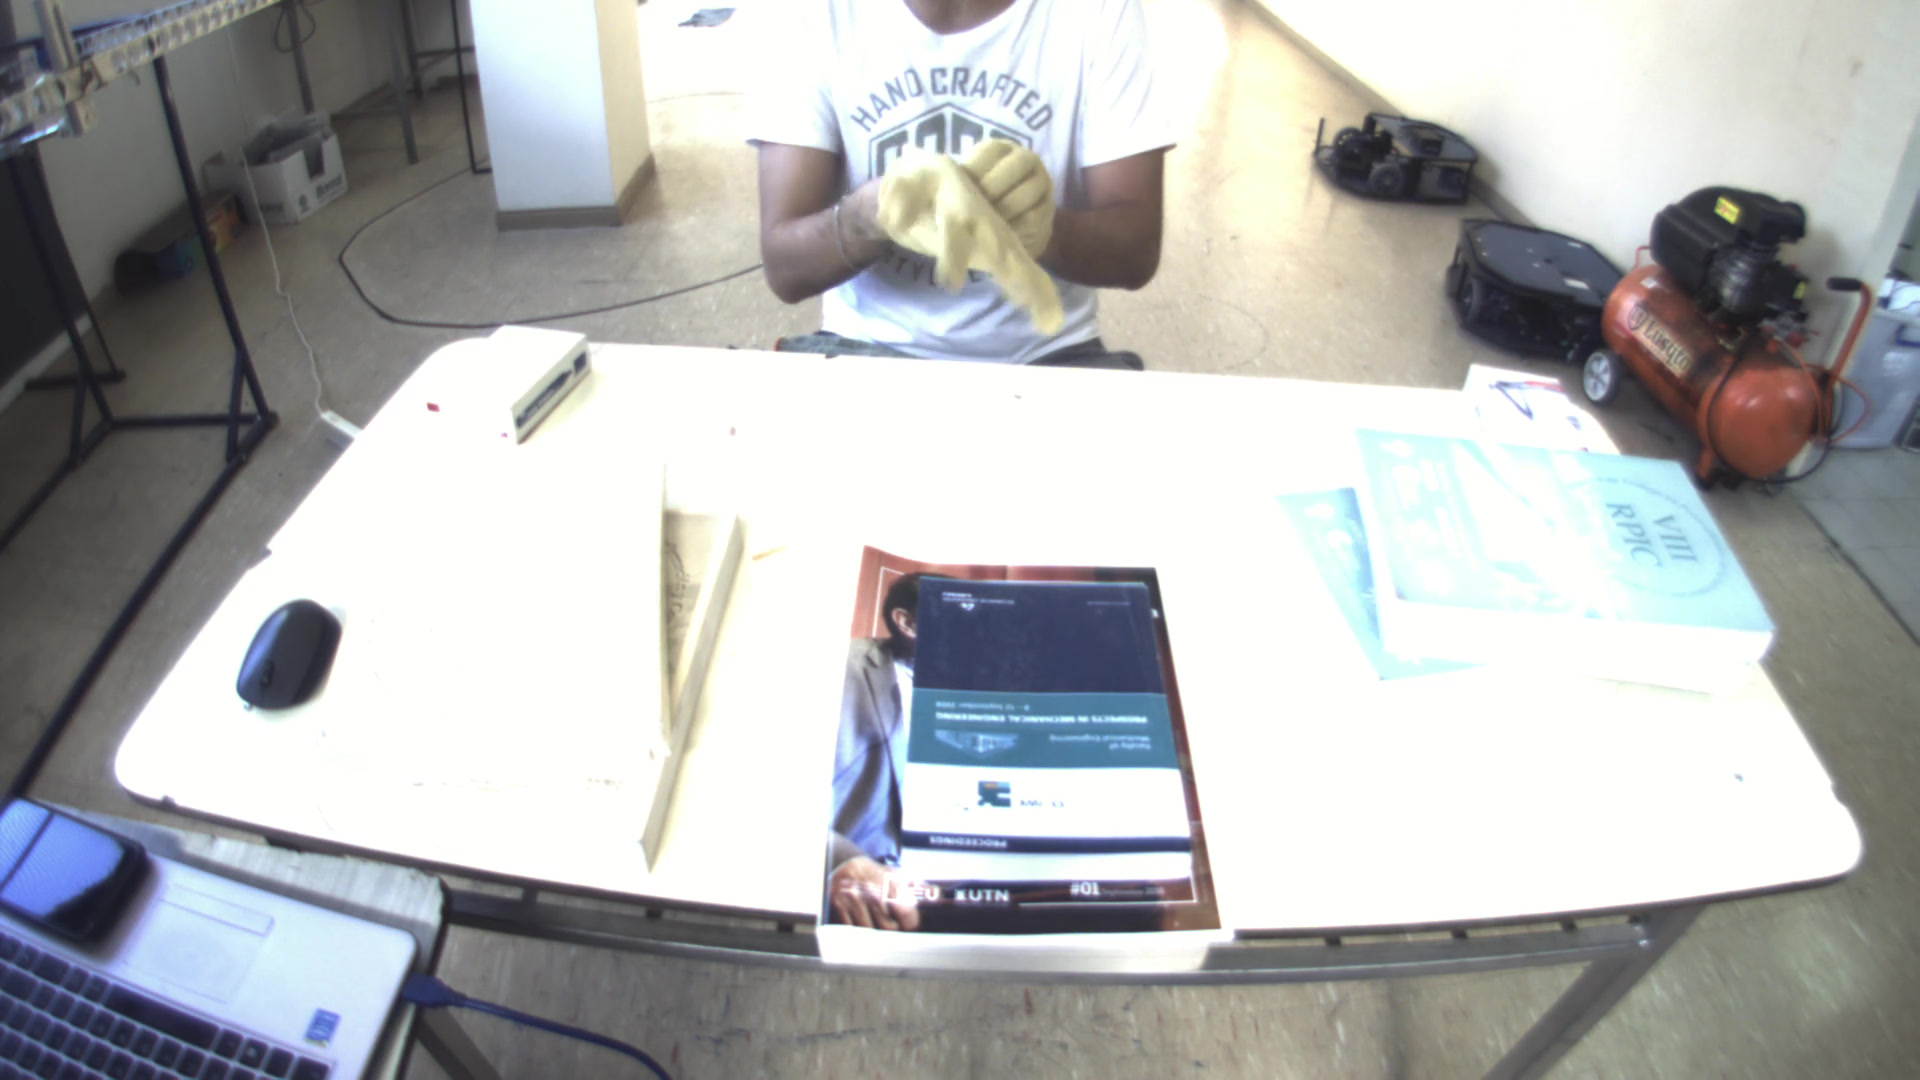hand: (934, 119, 1081, 252)
